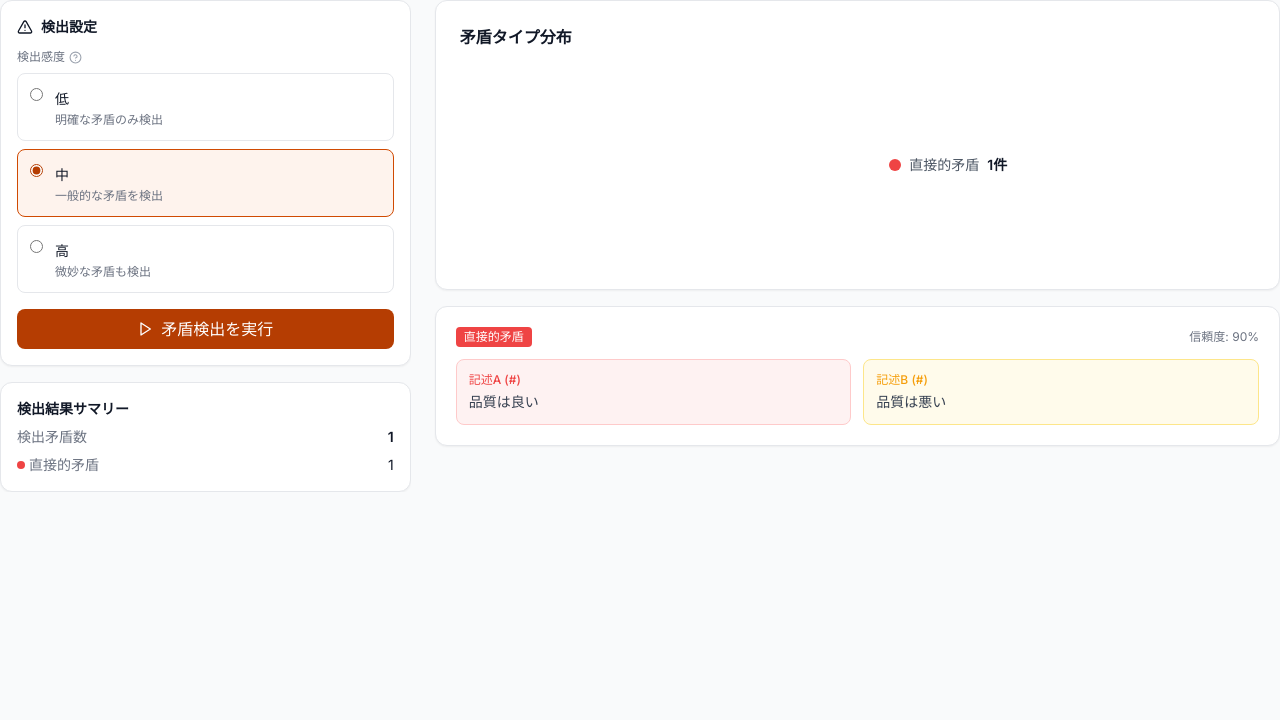
Scenario: ContradictionPage › API失敗時にエラー表示
Click the button "矛盾検出を実行": (205, 329) [17,309,394,349]
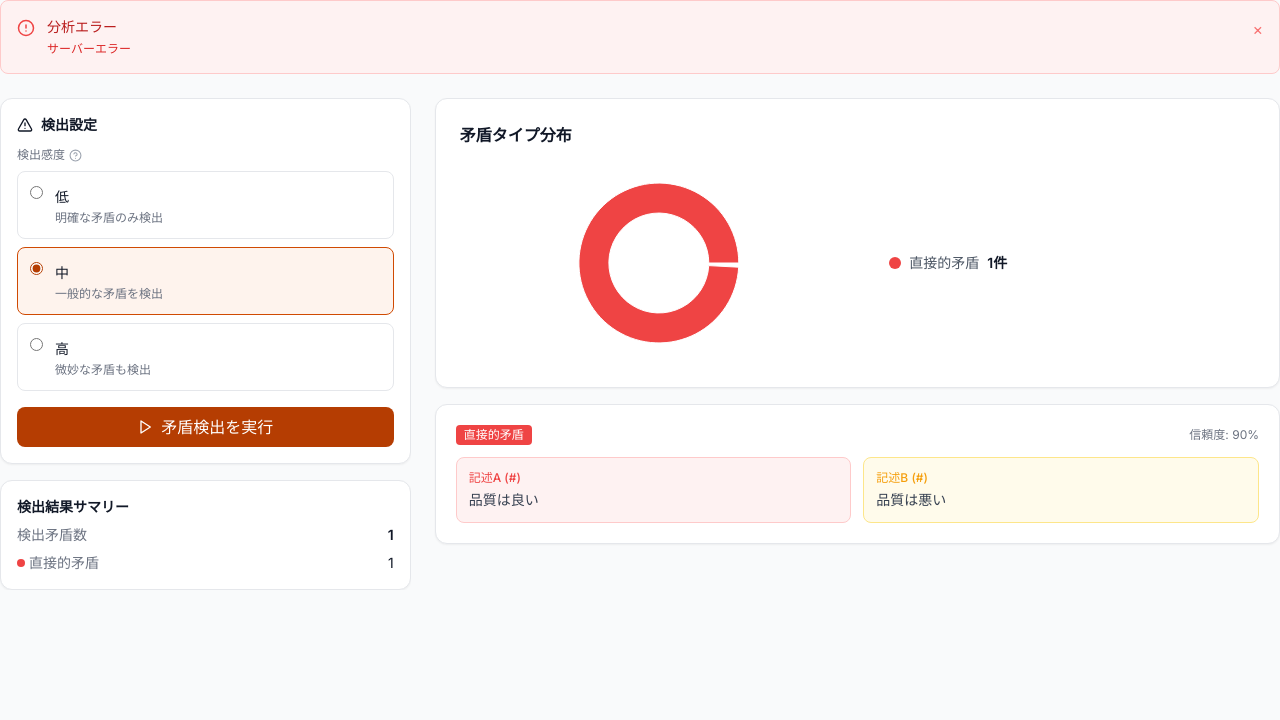
Result: the text "分析エラー" is shown at [47,18,117,35]
